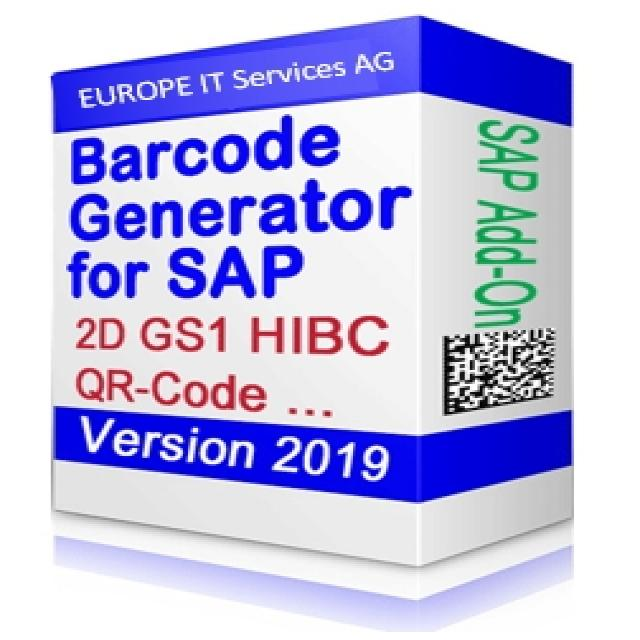datamatrix: (435, 323, 565, 423)
